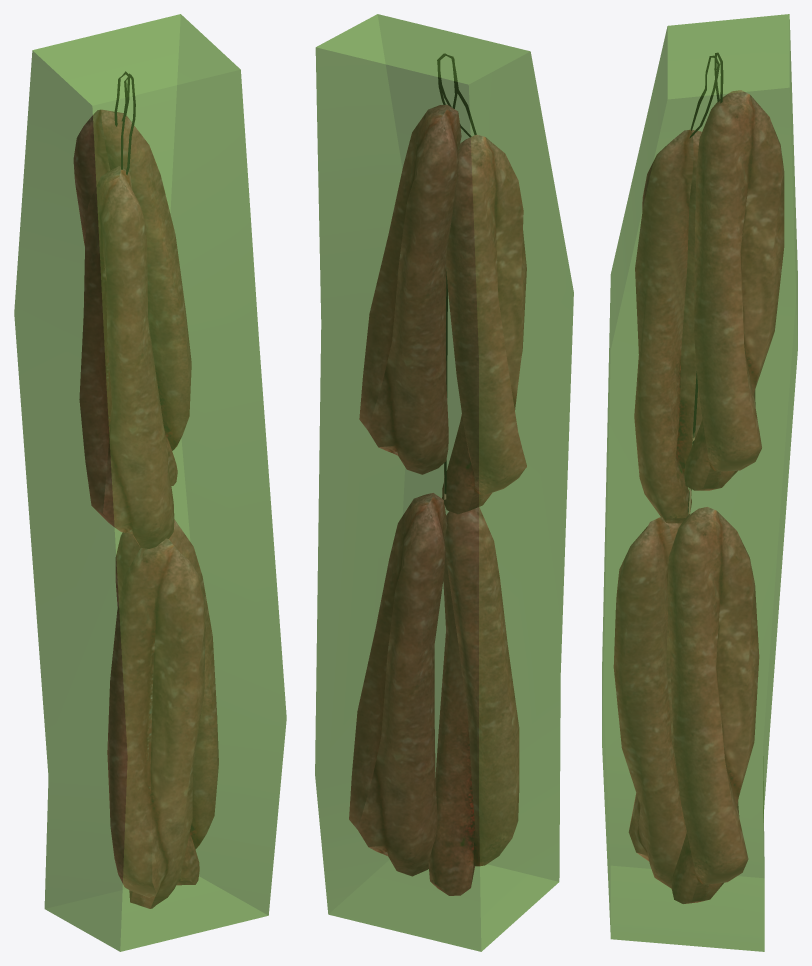
The model's file is pg_Sausage_03.fbx.
The picture shows the model from 3 angles, left to right: view 1: azimuth 30°, elevation 25°; view 2: azimuth 150°, elevation 25°; view 3: azimuth 270°, elevation 25°; orthographic projection. The views are drawn at different scales.
Visible parts, largest first — view 1: pg_Sausage_03_a_col, pg_Sausage_03_a_LOD0; view 2: pg_Sausage_03_a_col, pg_Sausage_03_a_LOD0; view 3: pg_Sausage_03_a_col, pg_Sausage_03_a_LOD0.
Part boxes in pixels (x1,y1,x2,y2): pg_Sausage_03_a_col: (14, 14, 286, 951); pg_Sausage_03_a_LOD0: (73, 71, 218, 908); pg_Sausage_03_a_col: (315, 14, 573, 951); pg_Sausage_03_a_LOD0: (349, 53, 526, 895); pg_Sausage_03_a_col: (602, 14, 797, 951); pg_Sausage_03_a_LOD0: (613, 52, 784, 903).
Size of what is drawn, in the model's own units: 12.24 by 56.39 by 11.58.
